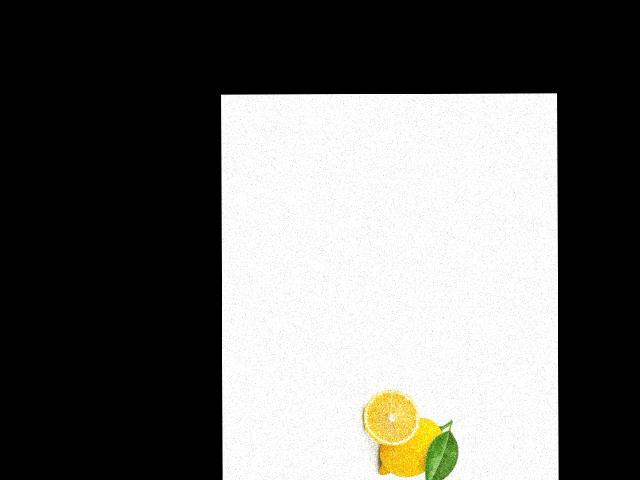lemon: (370, 414, 451, 479)
